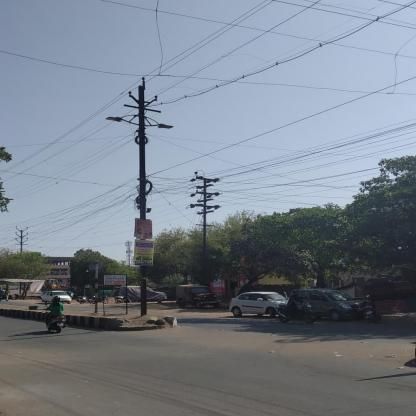Electrical Pole: (109, 76, 182, 316)
